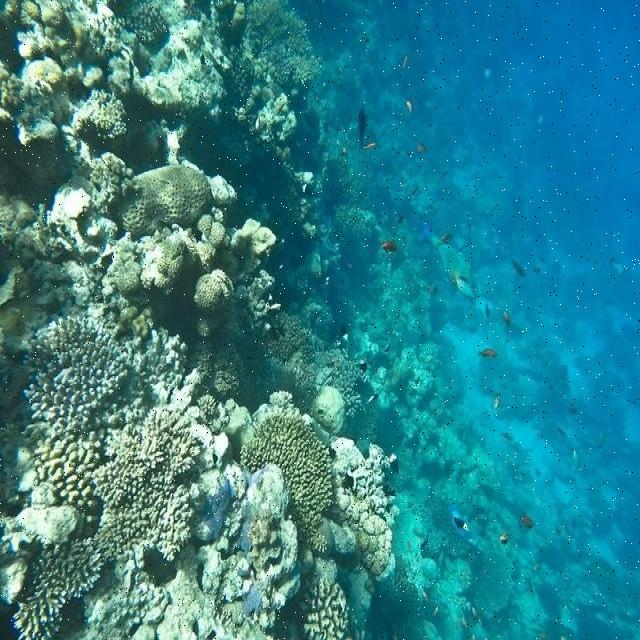fish: (455, 277, 476, 300), (454, 518, 471, 531), (358, 108, 365, 139), (512, 261, 525, 277), (382, 242, 398, 253), (406, 99, 414, 118), (477, 349, 497, 356), (500, 535, 510, 545), (504, 311, 511, 325), (524, 517, 533, 527)
reefs: (267, 0, 639, 639), (1, 0, 368, 437), (0, 258, 401, 639)
